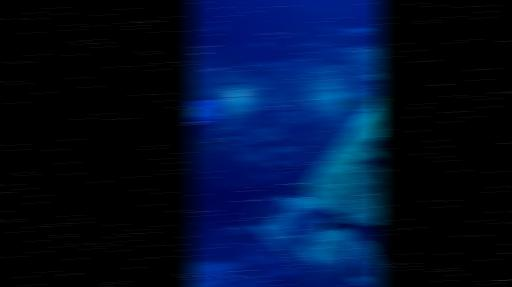Fish: (345, 223, 381, 261), (322, 212, 351, 231), (199, 137, 240, 150), (190, 106, 219, 121), (342, 26, 377, 34), (343, 97, 368, 108), (299, 40, 328, 48), (229, 225, 252, 234), (295, 182, 316, 191), (364, 157, 381, 167), (353, 264, 366, 276), (370, 139, 381, 152), (207, 146, 226, 153), (373, 96, 381, 110), (267, 161, 282, 168), (307, 272, 320, 280), (208, 66, 227, 71), (289, 102, 302, 109), (271, 132, 281, 141), (207, 26, 222, 31), (191, 159, 199, 168), (193, 221, 206, 226), (256, 42, 269, 47), (269, 117, 275, 127), (286, 32, 297, 37), (281, 46, 292, 50), (212, 60, 218, 64)
